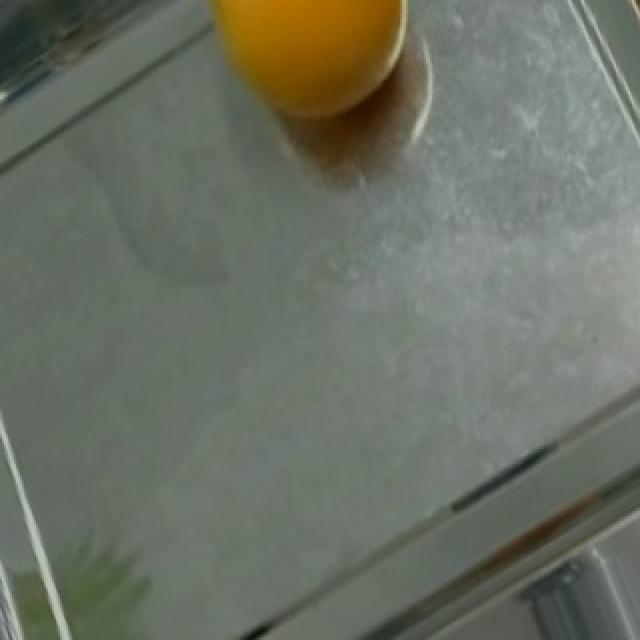Fruit: (178, 2, 440, 146), (402, 593, 600, 640)
